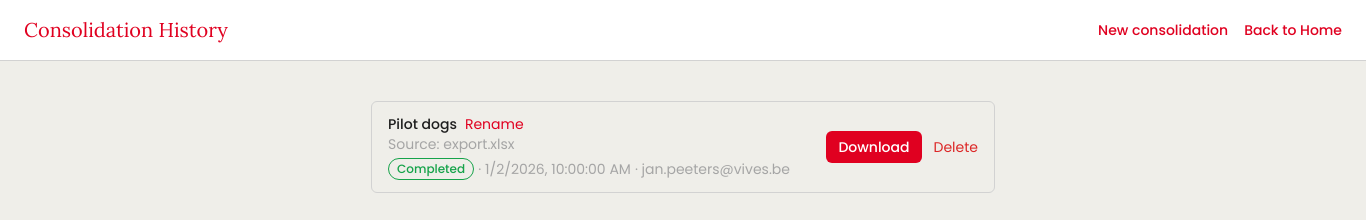
Test: ConsolidationsHistoryView › inline rename › opens an input prefilled with the current display name
Click the button with test id "consolidation-history-rename" at (494, 124), box [465,114,524,134]
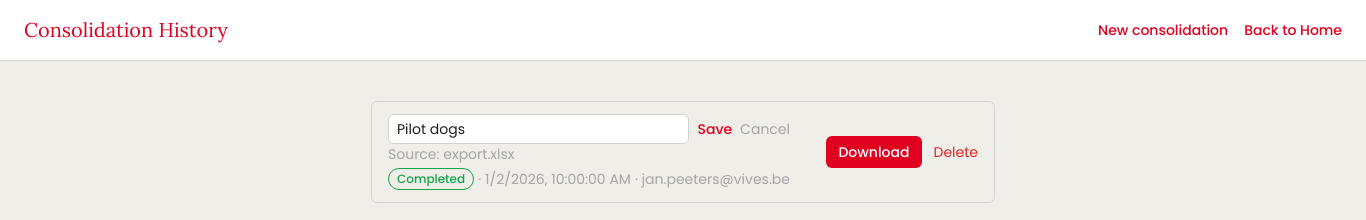
Result: the field with test id "consolidation-history-rename-input" holds "Pilot dogs" at [388,114,690,144]
